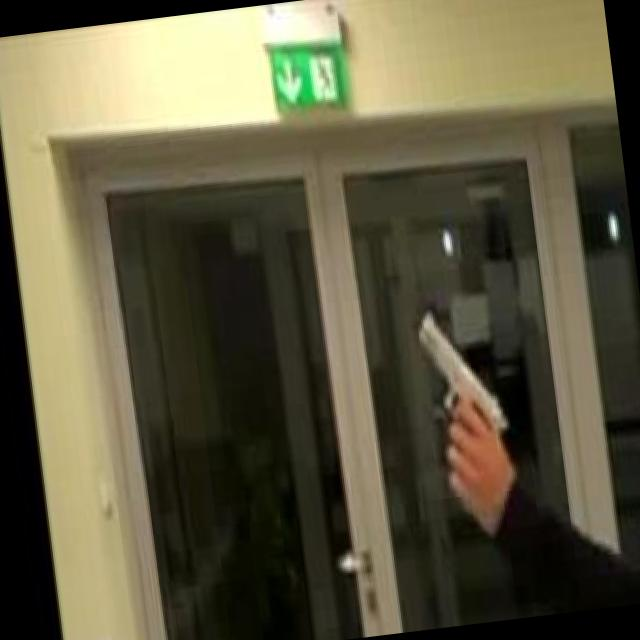Guns: (405, 296, 520, 461)
